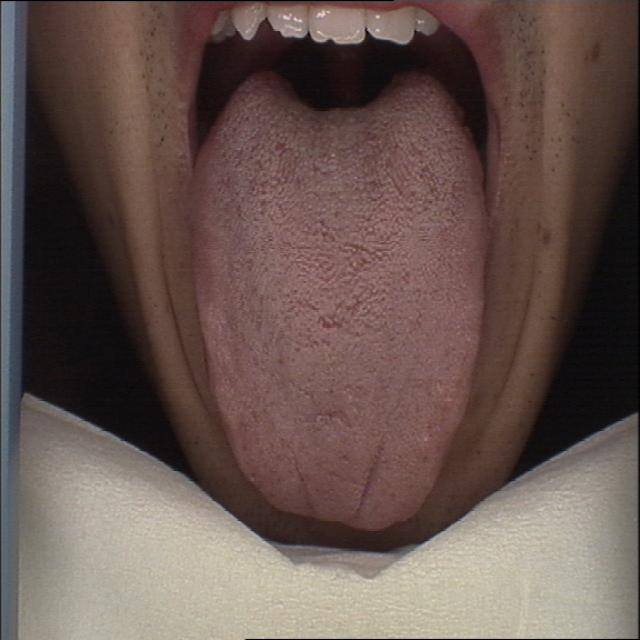tongue: (186, 64, 494, 534)
